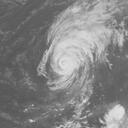cyclone: (40, 2, 123, 97)
